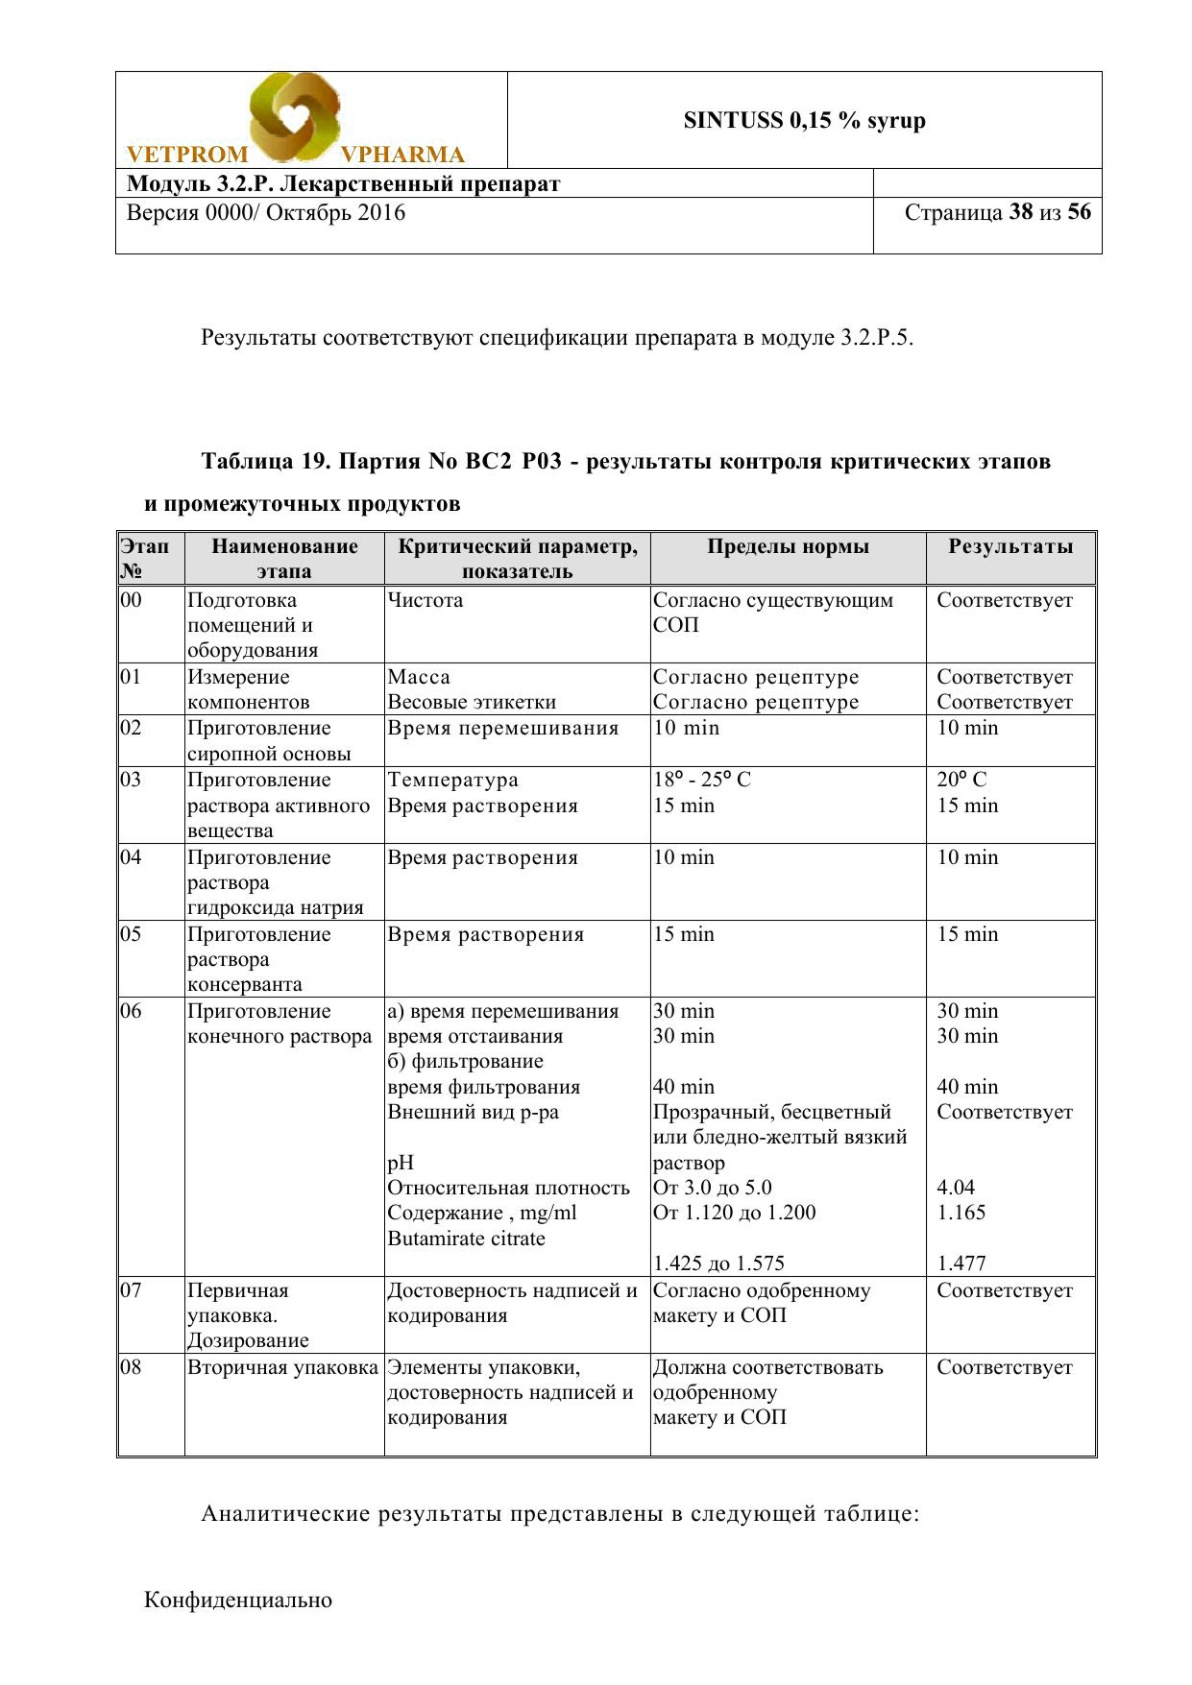full_lined: (115, 529, 1099, 1461)
merged_cells: (114, 68, 1104, 255)
